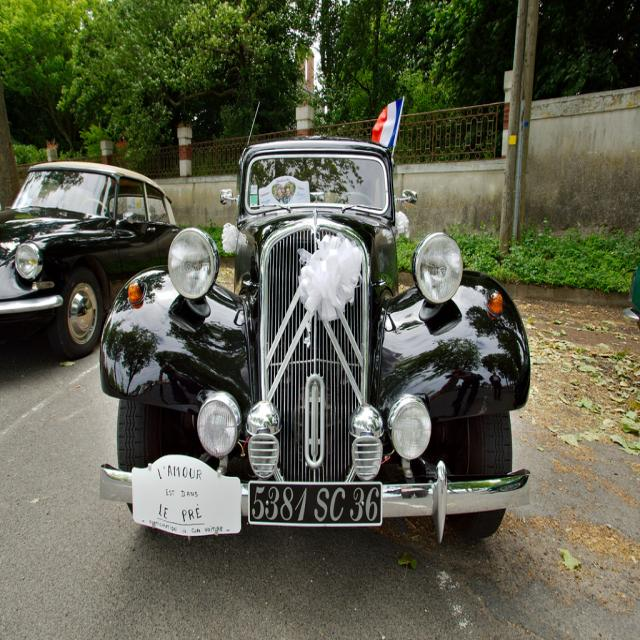car: (84, 126, 500, 563)
